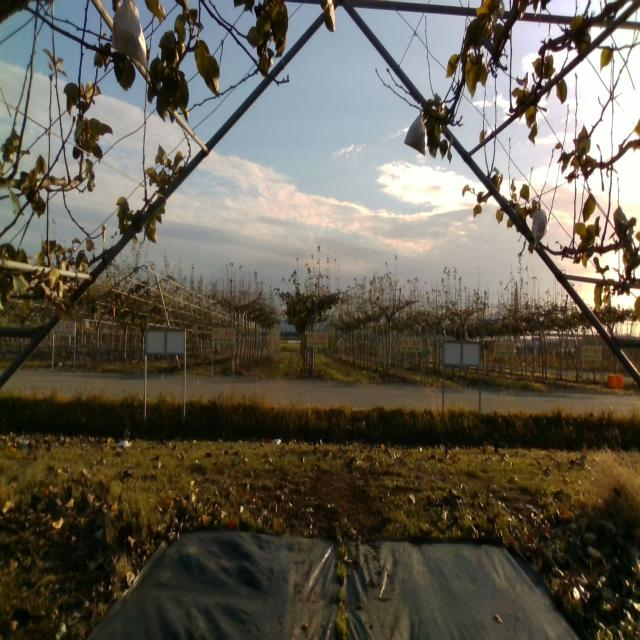pearbags: (107, 0, 151, 67), (404, 108, 428, 156), (531, 203, 548, 242)
